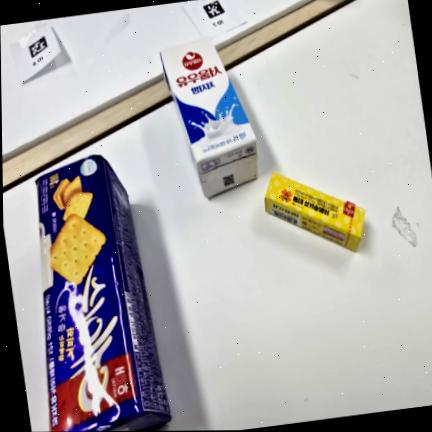cracker_ace: (36, 155, 171, 432)
gum_yellow: (264, 172, 365, 251)
milk_blue: (160, 37, 257, 197)
